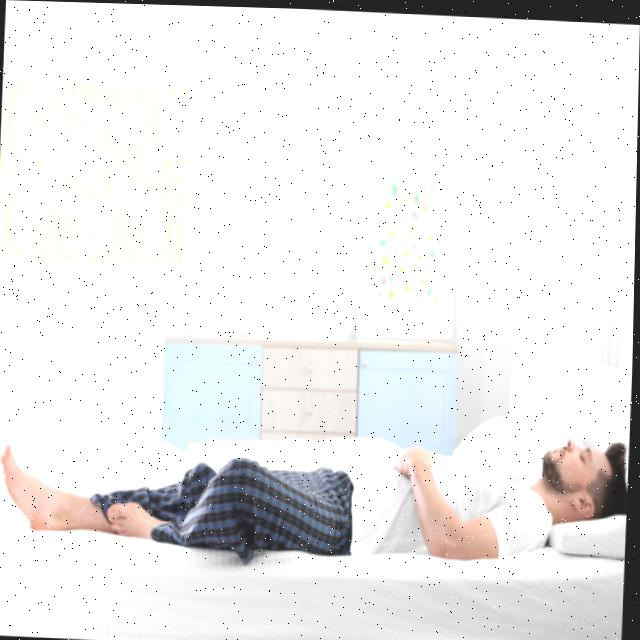sleeping-person: (0, 360, 633, 596)
